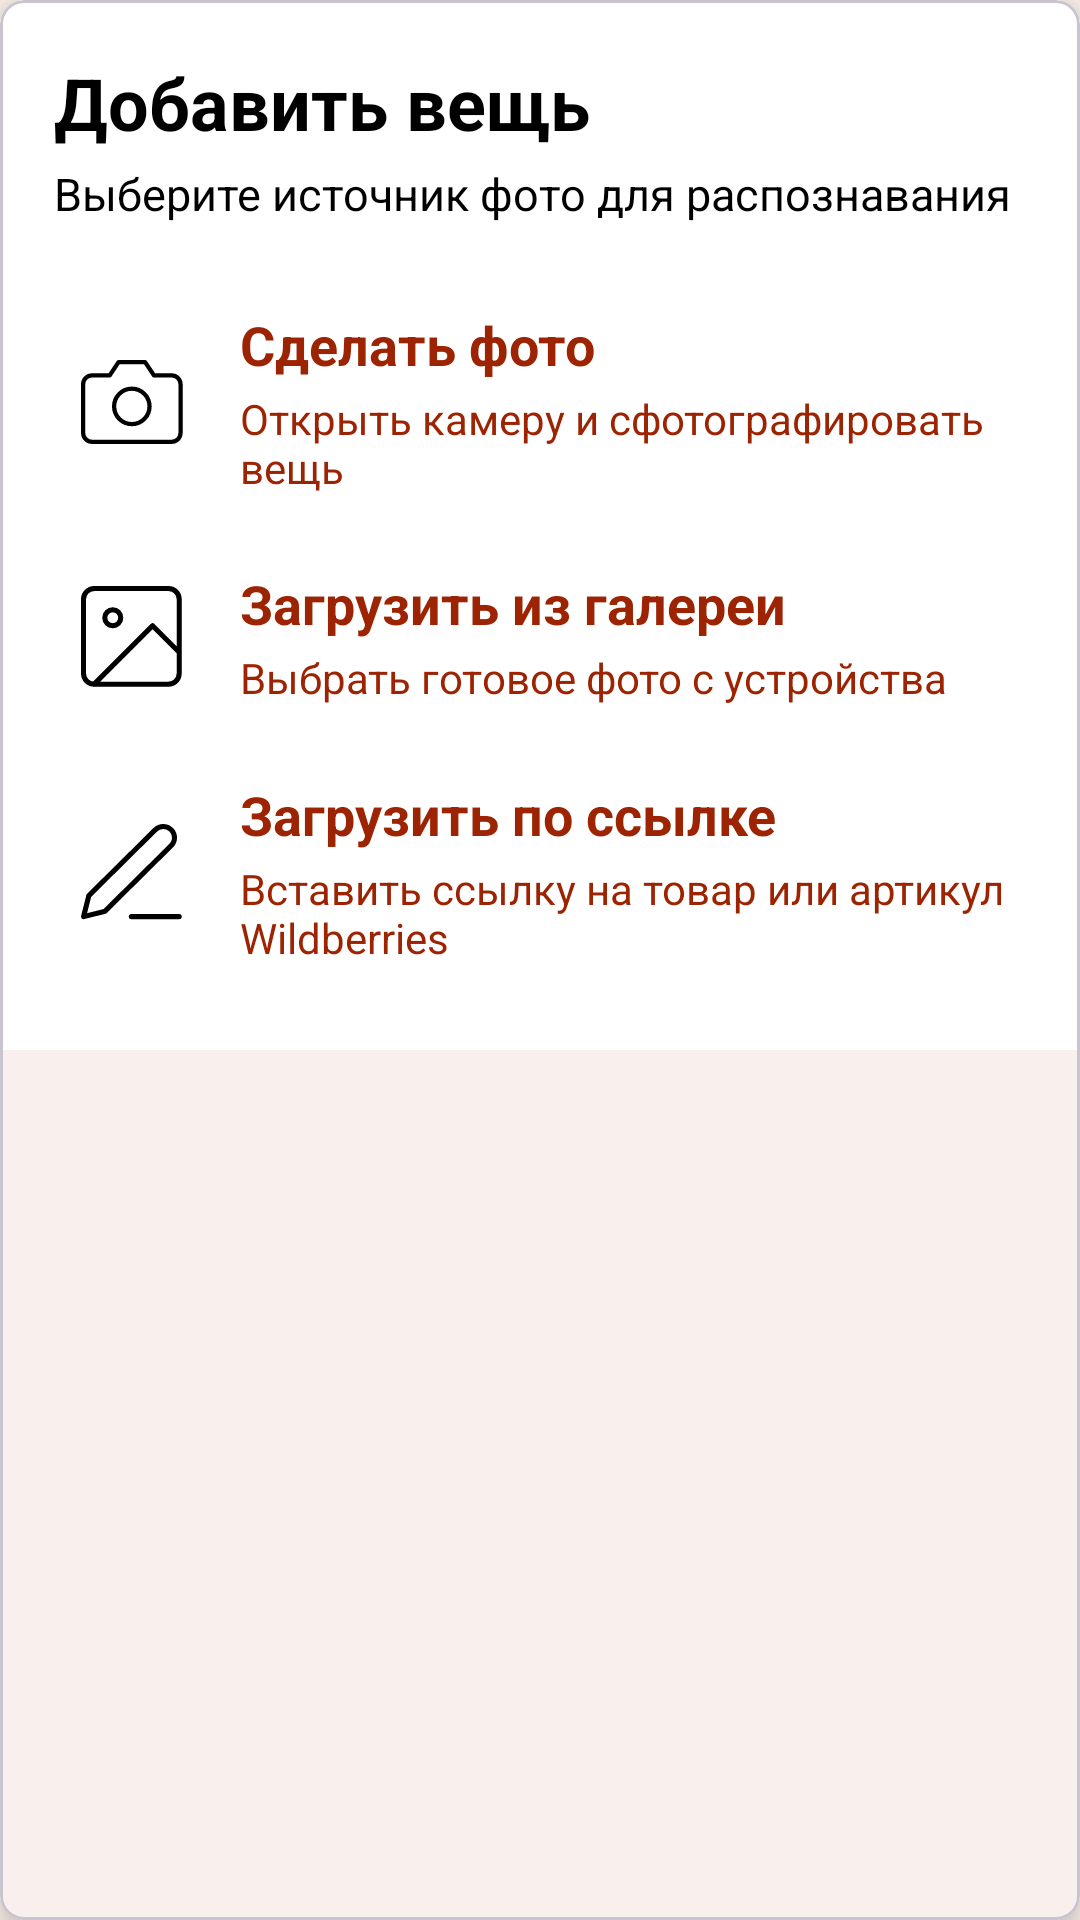

Named icons in this screenshot (1080w x 1920h) and their bounding boxes, (x1, y1, x2, y2):
by gallery: (81, 586, 182, 687)
by photo: (81, 360, 183, 444)
